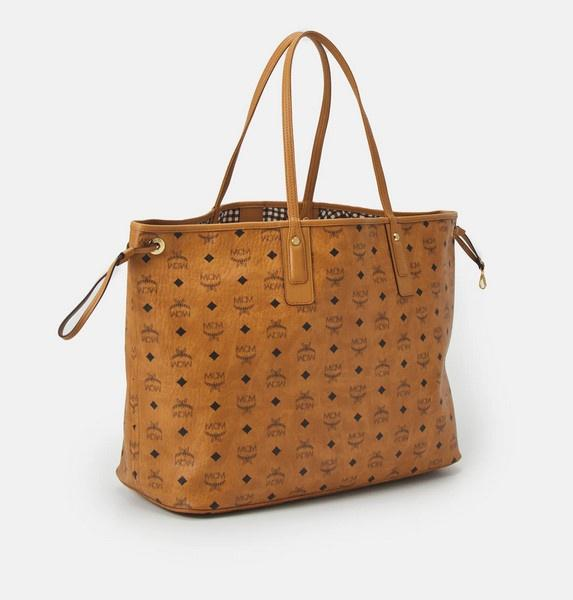MCM: (131, 224, 465, 509)
